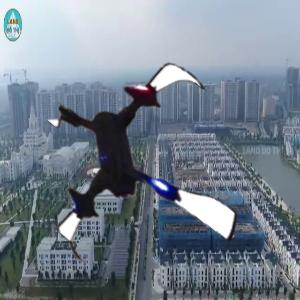drone: (28, 54, 258, 284)
